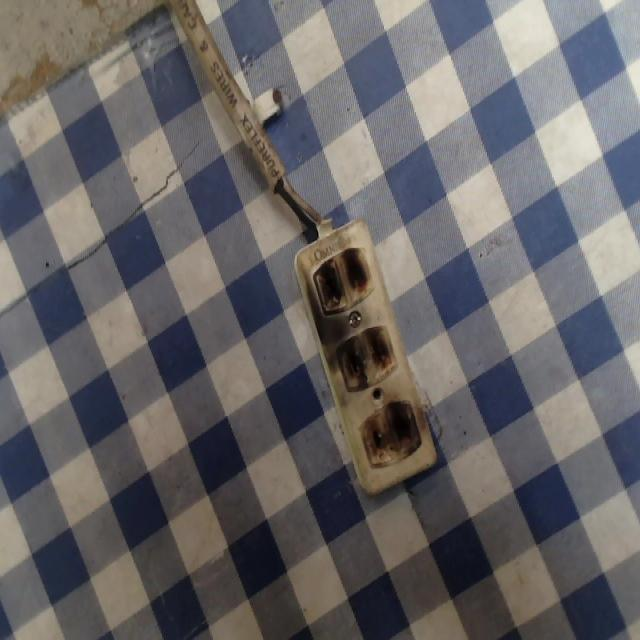-: (309, 244, 374, 315), (358, 400, 423, 469), (333, 320, 395, 391)
